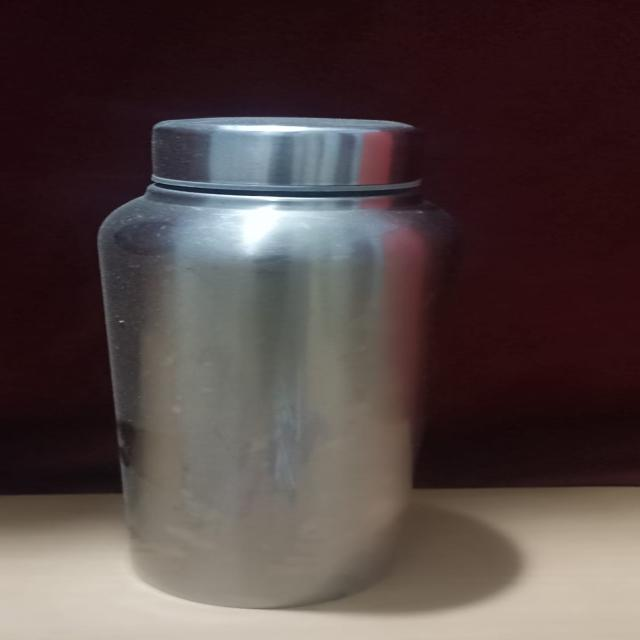bottle: (87, 100, 443, 618)
